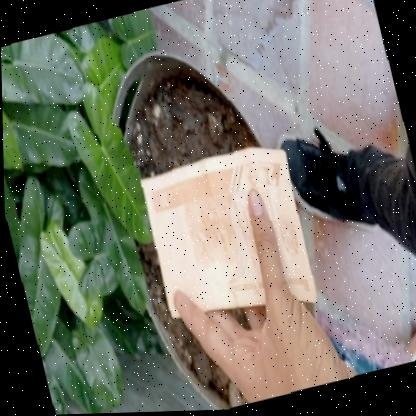twenty-back-vef: (136, 141, 319, 338)
